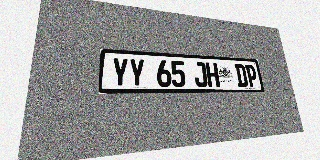5: (171, 61, 186, 87)
6: (156, 60, 172, 87)
D: (234, 64, 248, 87)
H: (205, 62, 220, 87)
J: (193, 62, 208, 87)
P: (245, 64, 259, 87)
Y: (111, 57, 128, 87), (129, 58, 145, 87)
